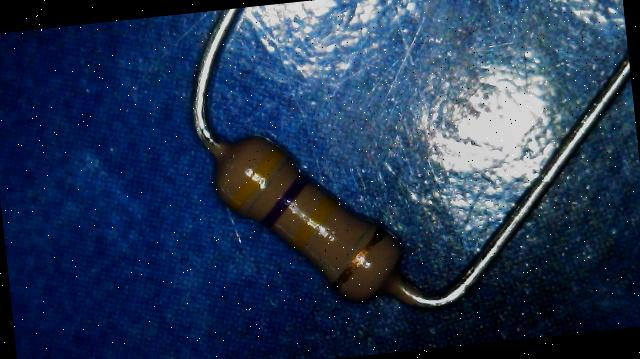gold: (326, 226, 394, 292)
resistor: (196, 114, 444, 311)
violet: (256, 172, 316, 228)
yellow: (223, 146, 290, 210), (284, 196, 340, 250)
